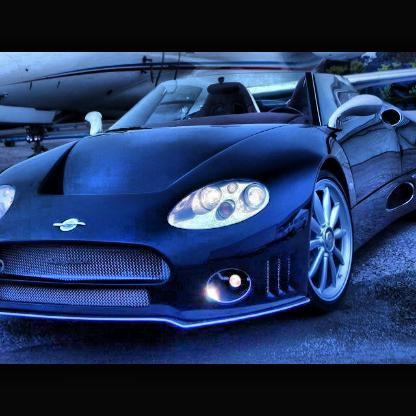Spyker C8 Convertible 2009: (2, 71, 416, 338)
